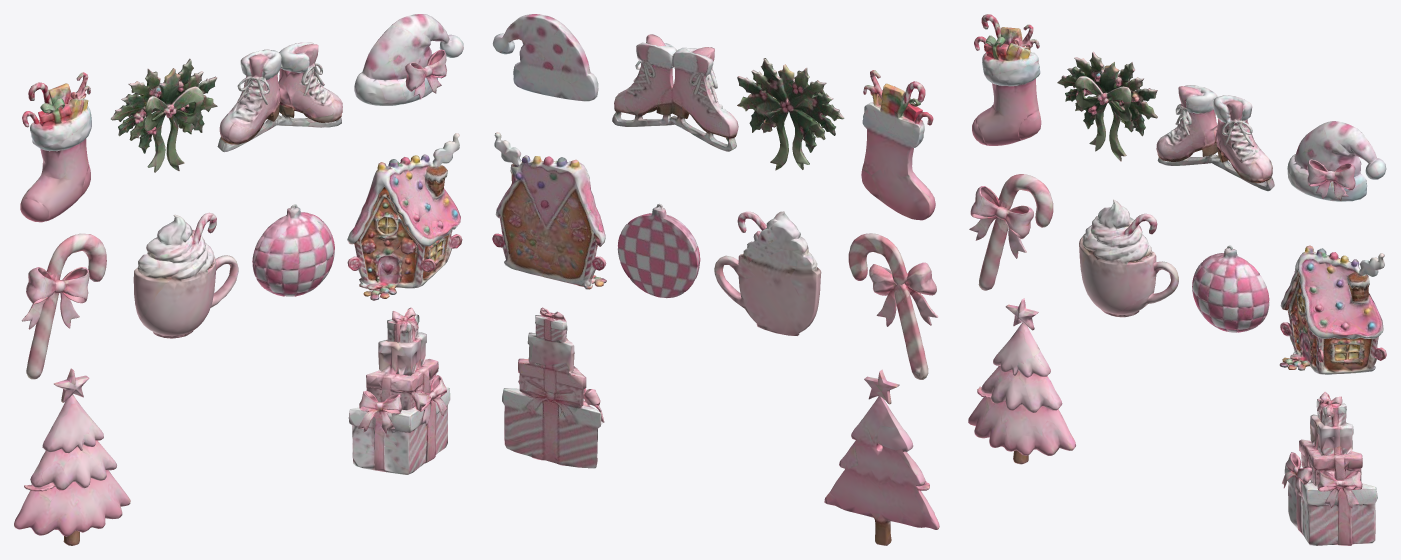
The picture shows the model from 3 angles, left to right: view 1: azimuth 30°, elevation 25°; view 2: azimuth 150°, elevation 25°; view 3: azimuth 330°, elevation 25°; orthographic projection. The views are drawn at different scales.
Visible parts, largest first — view 1: Mesh 9, Mesh 10, Mesh 1, Mesh 5, Mesh 7, Mesh 3, Mesh 11, Mesh 4, Mesh 8, Mesh 2; view 2: Mesh 9, Mesh 10, Mesh 1, Mesh 5, Mesh 7, Mesh 3, Mesh 4, Mesh 11, Mesh 8, Mesh 2; view 3: Mesh 9, Mesh 10, Mesh 1, Mesh 5, Mesh 7, Mesh 3, Mesh 11, Mesh 4, Mesh 8, Mesh 2.
Boxes of the visible parts, box(x1,y1,x2,y2) form: Mesh 9: box(347, 133, 462, 300); Mesh 10: box(348, 307, 450, 474); Mesh 1: box(14, 368, 130, 545); Mesh 5: box(133, 212, 238, 338); Mesh 7: box(217, 42, 342, 152); Mesh 3: box(20, 72, 91, 222); Mesh 11: box(354, 14, 463, 105); Mesh 4: box(111, 58, 217, 172); Mesh 8: box(252, 204, 334, 296); Mesh 2: box(21, 233, 106, 379); Mesh 9: box(492, 132, 606, 289); Mesh 10: box(502, 307, 604, 468); Mesh 1: box(824, 369, 939, 545); Mesh 5: box(714, 211, 821, 335); Mesh 7: box(612, 34, 738, 151); Mesh 3: box(861, 70, 935, 220); Mesh 4: box(737, 58, 844, 170); Mesh 11: box(492, 14, 598, 101); Mesh 8: box(617, 203, 700, 298); Mesh 2: box(848, 233, 938, 379); Mesh 9: box(1279, 245, 1386, 374); Mesh 10: box(1282, 391, 1377, 545); Mesh 1: box(968, 298, 1075, 464); Mesh 5: box(1079, 199, 1178, 317); Mesh 7: box(1156, 85, 1274, 191); Mesh 3: box(972, 14, 1041, 145); Mesh 11: box(1287, 121, 1386, 201); Mesh 4: box(1057, 51, 1157, 161); Mesh 8: box(1192, 245, 1269, 332); Mesh 2: box(969, 174, 1053, 290).
Bounding box in the file's own units: 1.89 × 1.9 × 0.1854.
Materials: 10 (10 with a texture image).
